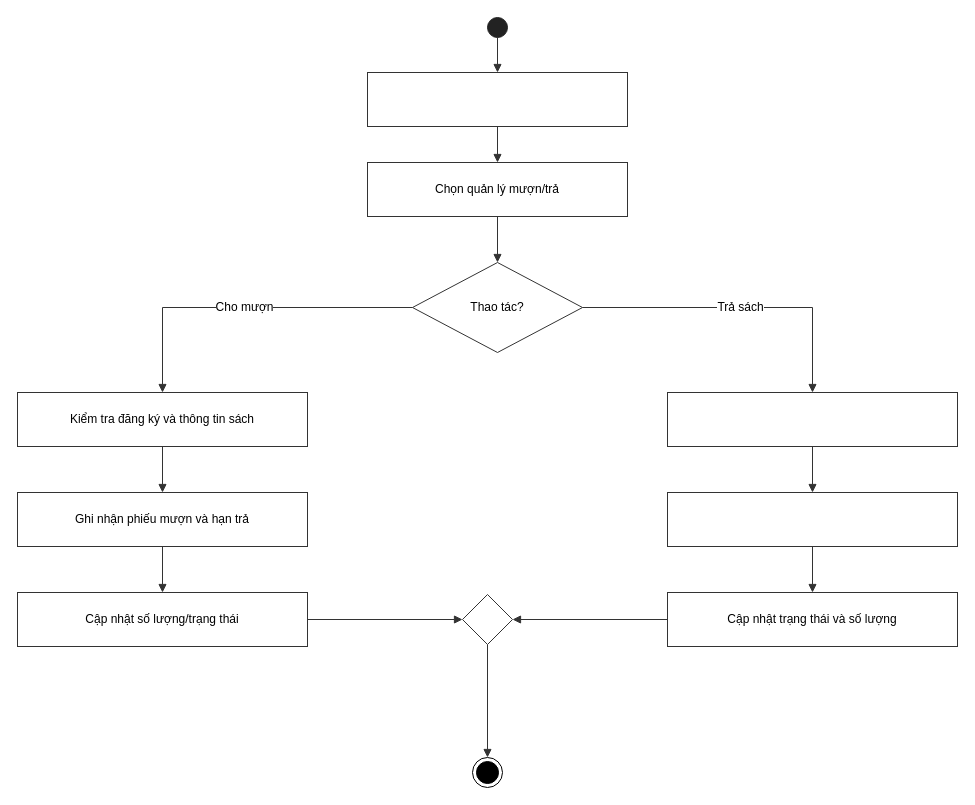
Image size: 975x805. Some labels were removed from this diagram. The shapes that lost their labels are listed below. From the top down, each one's box as (x1, y1, x2, y2) in pixels, then its label:
(366, 72, 628, 126): Thủ thư đăng nhập
(666, 392, 958, 446): Tra cứu phiếu mượn
(666, 492, 958, 546): Ghi nhận ngày trả thực tế
